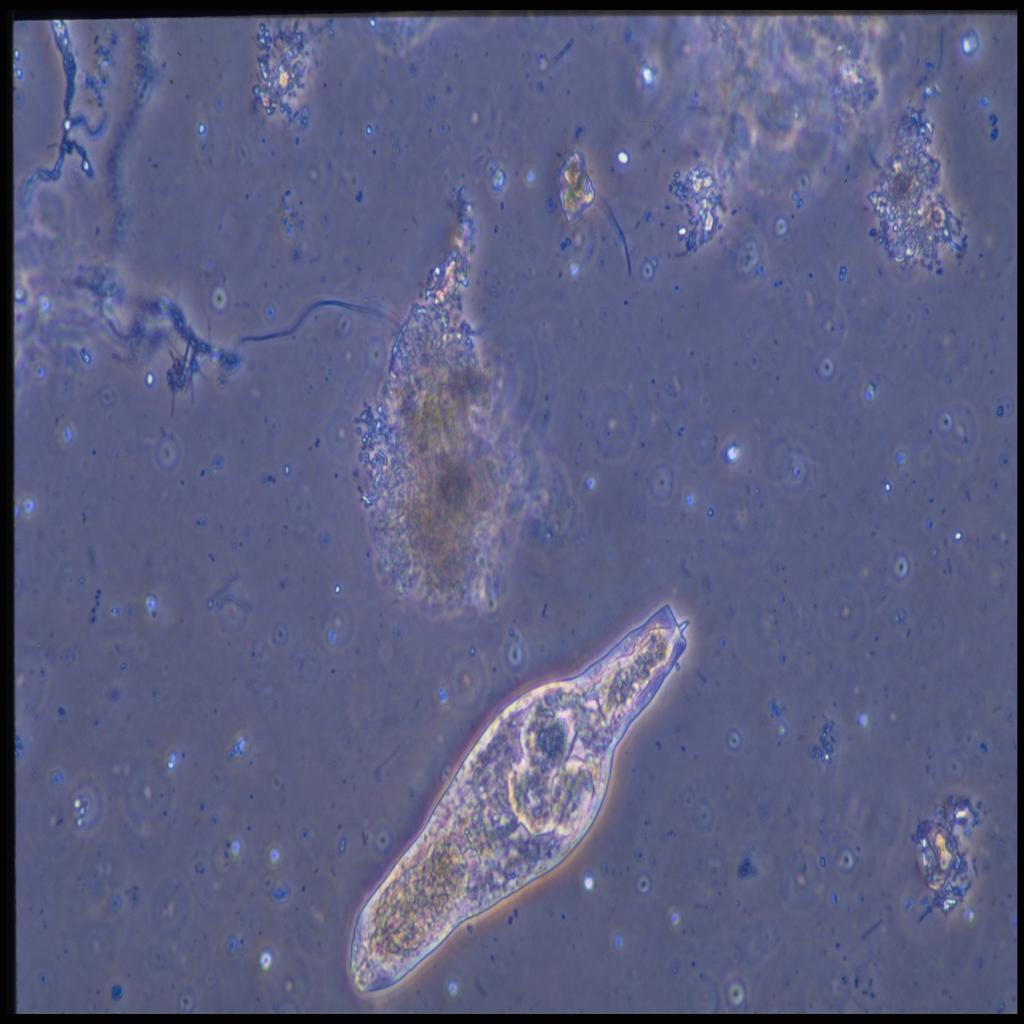Rotatoria: (332, 572, 697, 1016)
